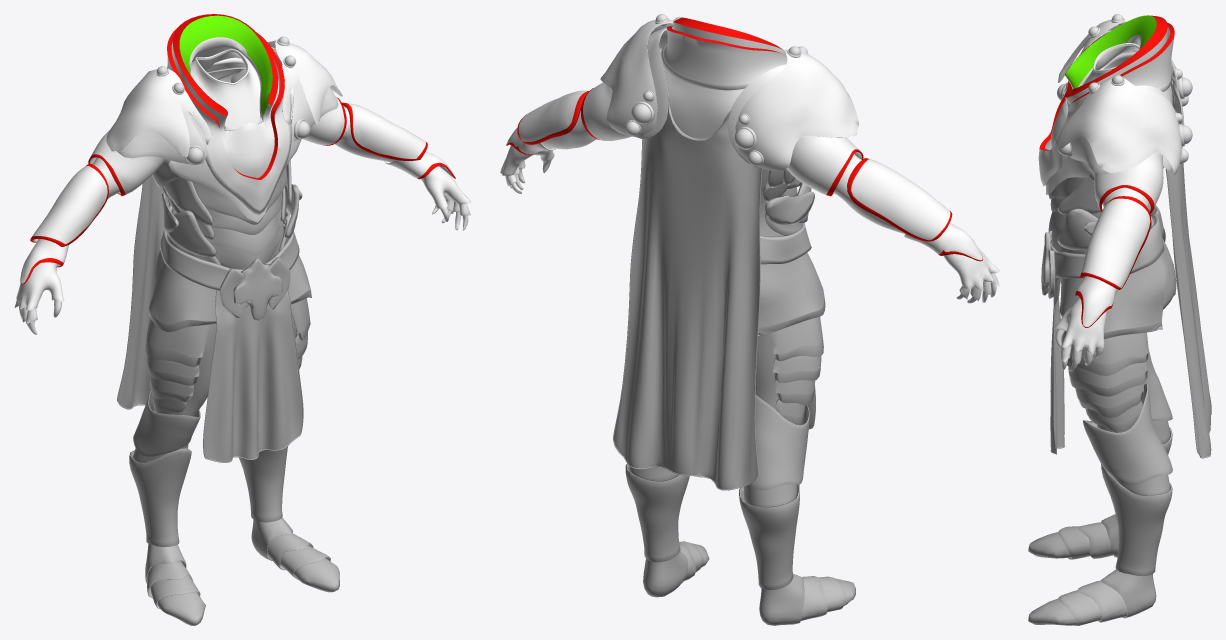
Rendered from ManArmor.fbx.
3 renders of one model, left to right at view 1: azimuth 30°, elevation 25°; view 2: azimuth 150°, elevation 25°; view 3: azimuth 270°, elevation 25°, orthographic. The views are drawn at different scales.
Visible parts, largest first — view 1: Chest1, LegArmor, Fabric, ArmArmor, Chest2, Bent, Chest2.001; view 2: Fabric, LegArmor, Chest1, ArmArmor, Chest2, Chest2.001, Bent; view 3: LegArmor, Chest1, ArmArmor, Fabric, Chest2, Bent, Chest2.001.
Boxes of the visible parts, <box> form: Chest1: <box>106,14,342,222</box>; LegArmor: <box>129,223,339,625</box>; Fabric: <box>117,68,303,462</box>; ArmArmor: <box>14,96,471,334</box>; Chest2: <box>152,159,302,269</box>; Bent: <box>160,222,299,320</box>; Chest2.001: <box>156,36,310,165</box>; Fabric: <box>613,96,815,490</box>; LegArmor: <box>625,253,855,625</box>; Chest1: <box>600,17,858,192</box>; ArmArmor: <box>500,82,999,303</box>; Chest2: <box>762,168,814,235</box>; Chest2.001: <box>625,14,808,166</box>; Bent: <box>760,222,811,264</box>; LegArmor: <box>1028,213,1176,625</box>; Chest1: <box>1038,15,1181,194</box>; ArmArmor: <box>1054,57,1163,371</box>; Fabric: <box>1050,79,1211,458</box>; Chest2: <box>1048,171,1101,254</box>; Bent: <box>1041,205,1164,298</box>; Chest2.001: <box>1057,14,1192,164</box>.
Size of the model in its own units: 224 by 263 by 77.35.
